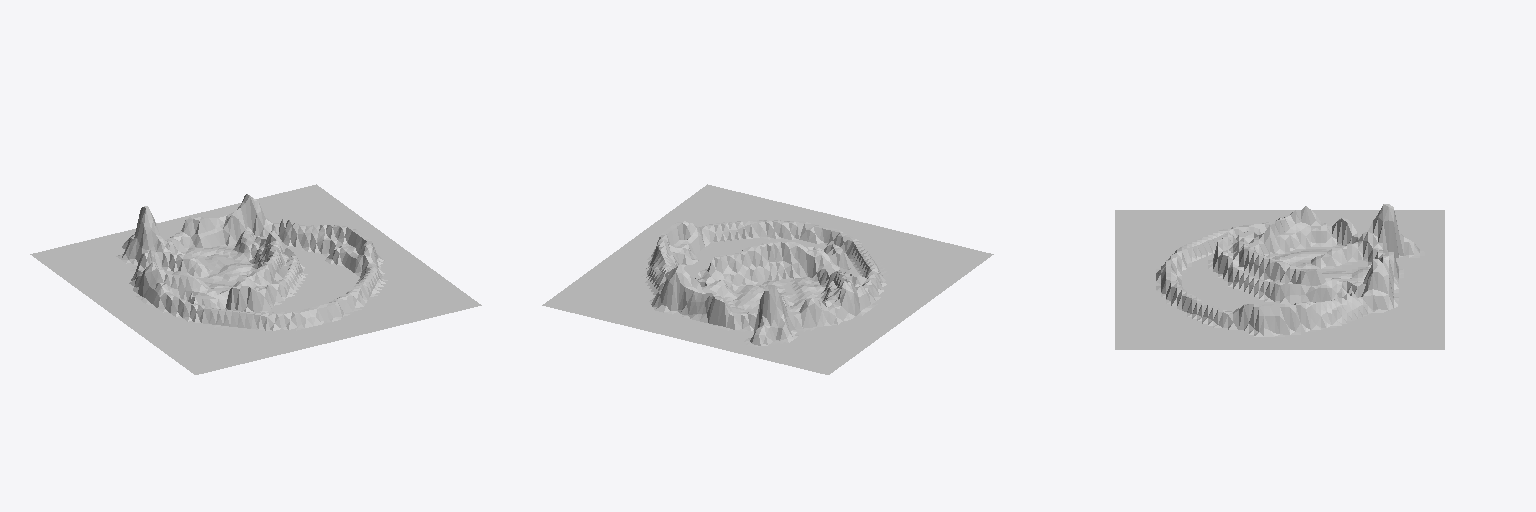
Rendered from wilkeworld.obj.
The picture shows the model from 3 angles: view 1: azimuth 30°, elevation 25°; view 2: azimuth 150°, elevation 25°; view 3: azimuth 270°, elevation 25°; orthographic projection.
Visible parts, largest first — view 1: pPlane1; view 2: pPlane1; view 3: pPlane1.
Boxes of the visible parts, <box> form: pPlane1: <box>30,184,481,374</box>; pPlane1: <box>542,184,993,374</box>; pPlane1: <box>1115,204,1444,349</box>.
Size of the model in its own units: 15.79 by 2.52 by 15.79.